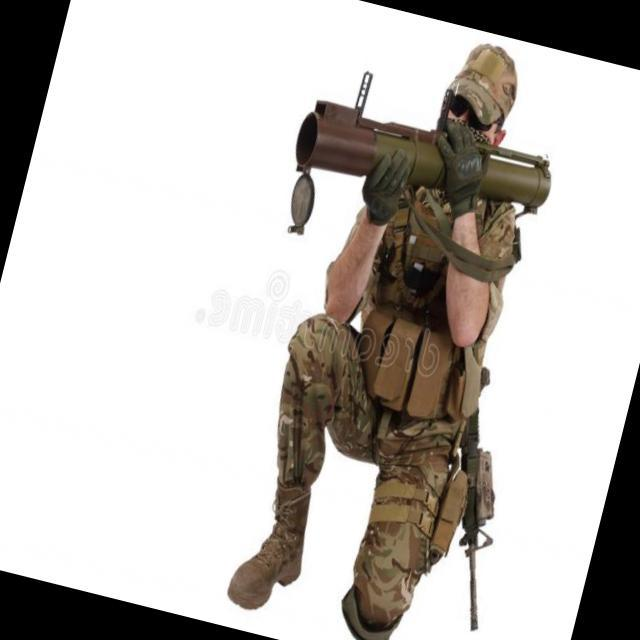rocket: (274, 60, 570, 290)
